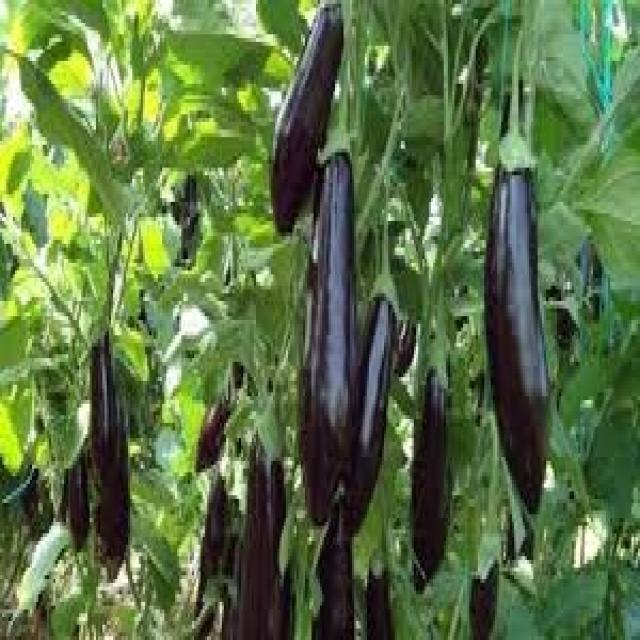eggplant: (487, 133, 546, 507), (305, 133, 354, 526), (271, 16, 336, 235), (239, 404, 290, 636), (88, 322, 130, 579), (407, 335, 448, 583)
